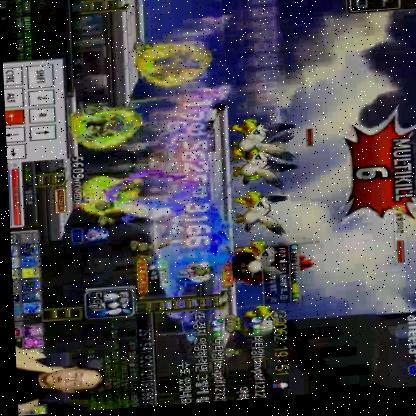streamer: (12, 336, 105, 416)
